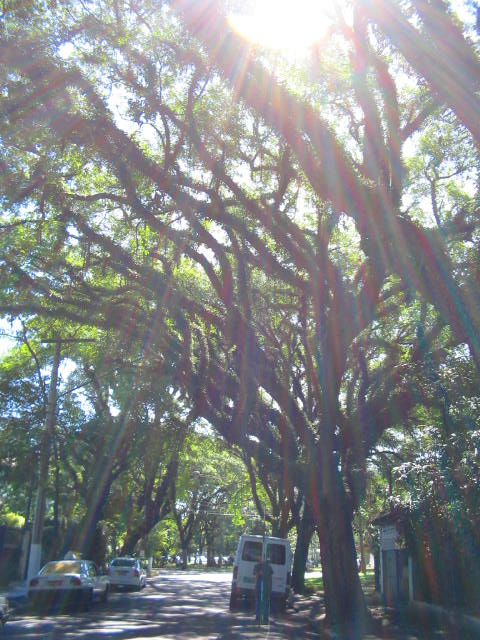stick: (254, 512, 270, 628)
